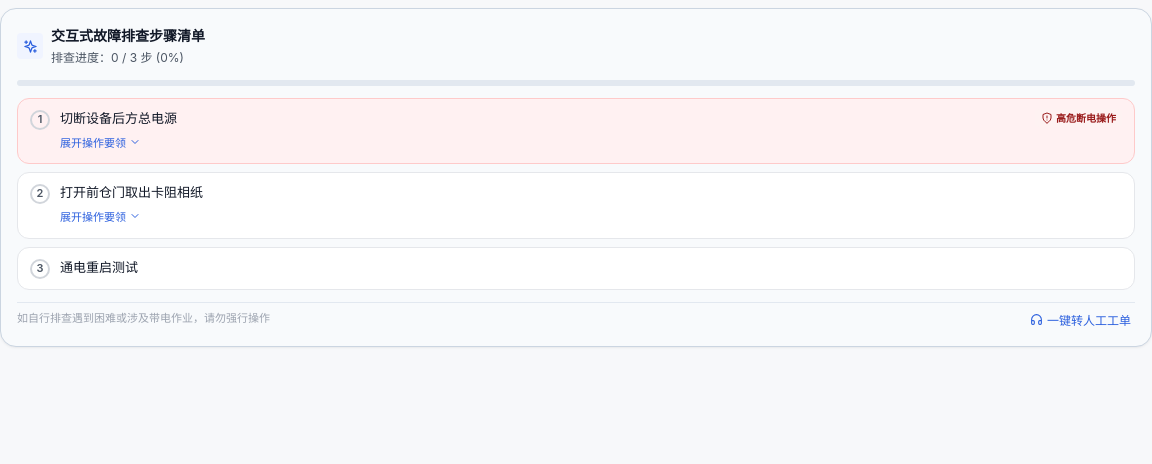
it: Tier 1 & 2 Component: Interactive Checkbox Troubleshoot Card (F-09 / F-10) › T1-TRB-05: completing all steps reveals recovery confirmation box
Click the checkbox labelled "1 切断设备后方总电源 高危断电操作 展开操作要领" at [576, 131], box [17, 98, 1135, 164]
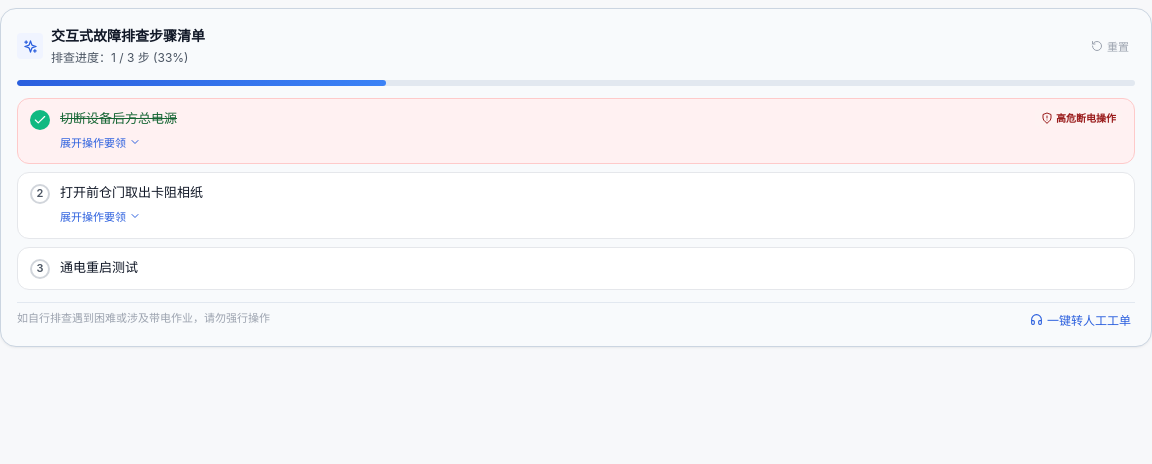
Click the checkbox labelled "2 打开前仓门取出卡阻相纸 展开操作要领" at [576, 206], box [17, 172, 1135, 239]
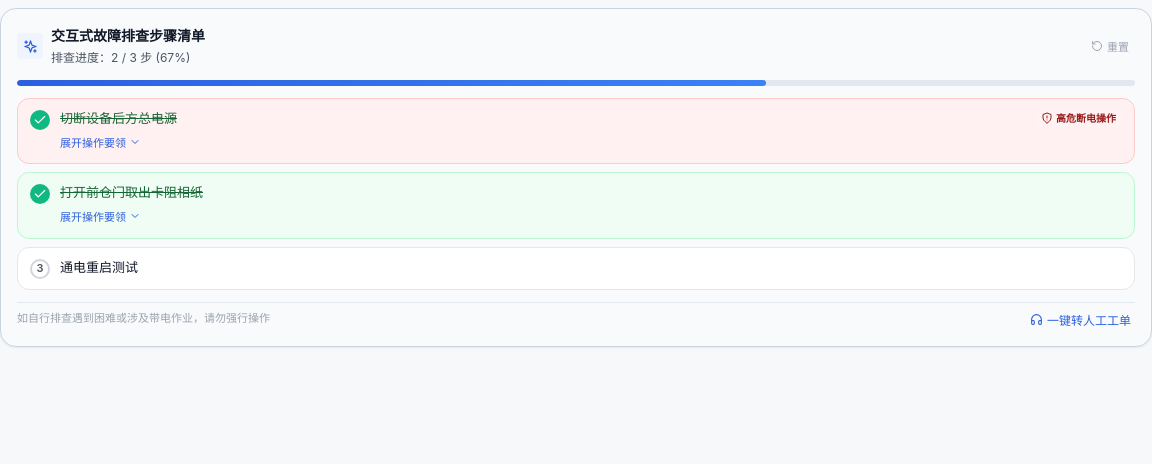
Click the checkbox labelled "3 通电重启测试" at [576, 268], box [17, 247, 1135, 290]
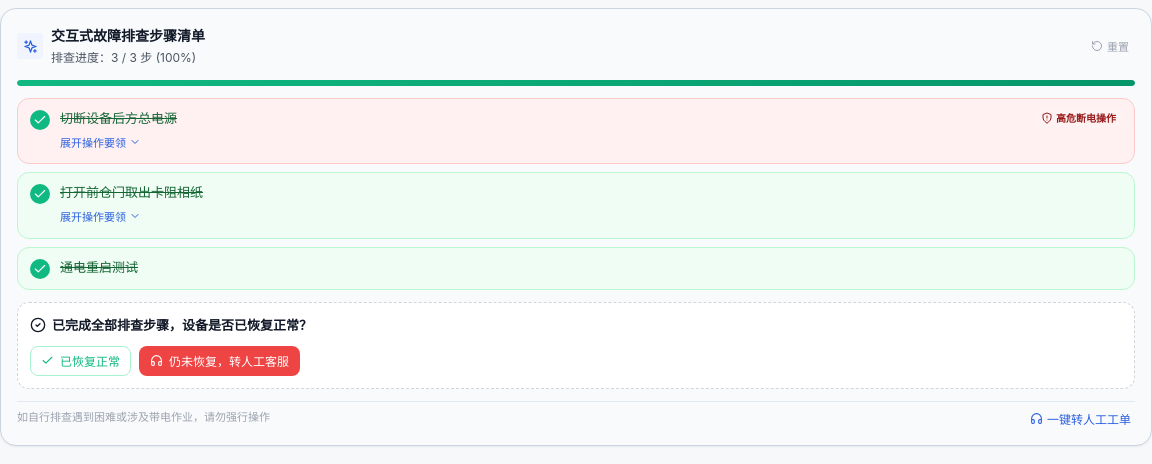
Expected: the text "排查进度：3 / 3 步 (100%)" is shown, [51, 48, 205, 68]
Expected: the text "已完成全部排查步骤，设备是否已恢复正常？" is shown, [52, 315, 312, 336]
Note: Click "已恢复正常"
Click the button "已恢复正常" at [80, 360], box [30, 346, 131, 376]
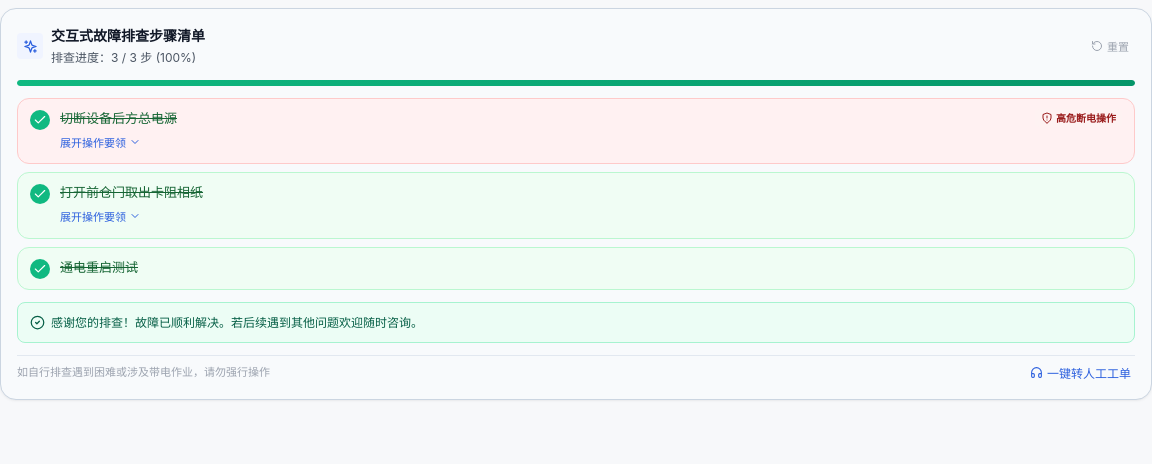
Expected: the text "感谢您的排查！故障已顺利解决。若后续遇到其他问题欢迎随时咨询。" is shown, [51, 313, 423, 332]
